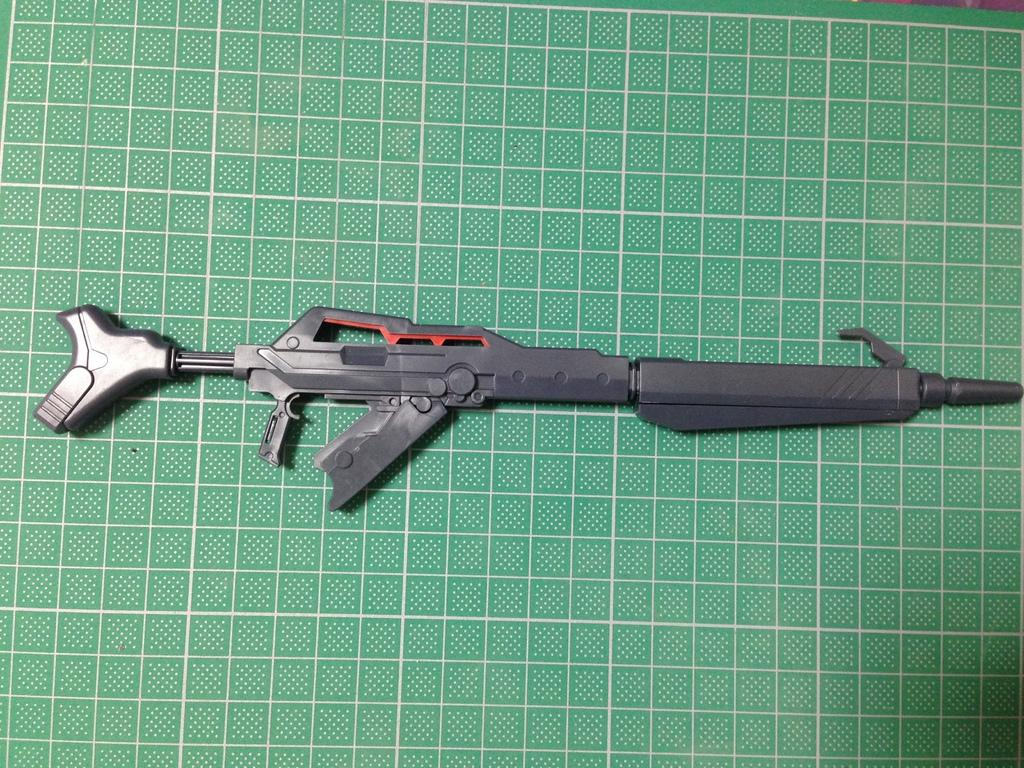Rifle: (36, 306, 1023, 508)
